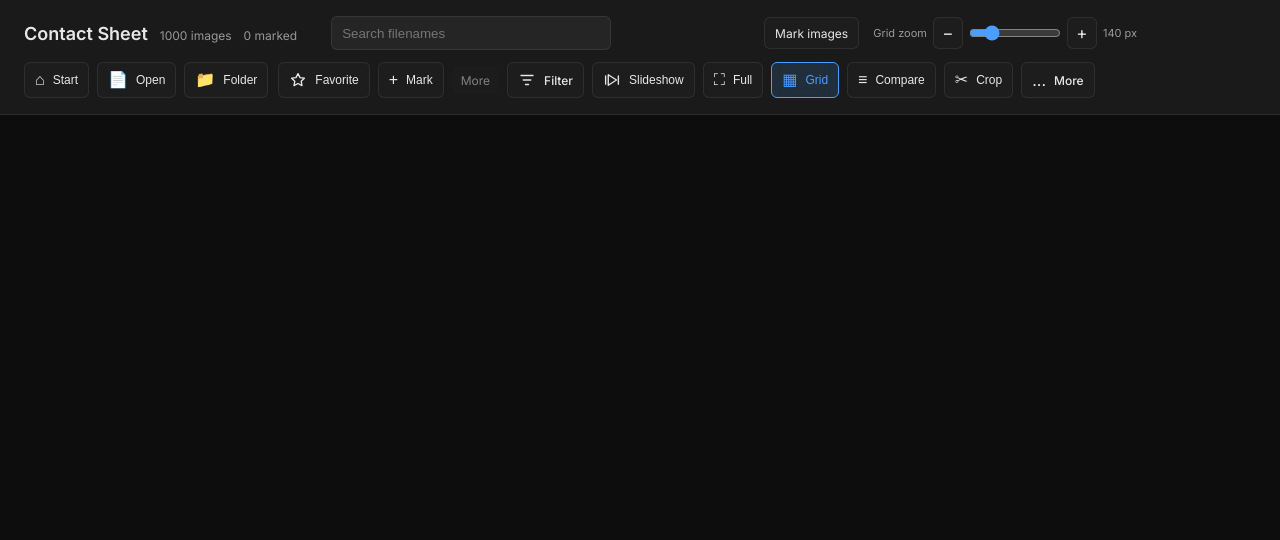
Scenario: ContactSheet › keeps the first visible result and fractional row offset anchored when zoom changes
The width and height of the screenshot is (1280, 540).
(page scrolled)
Click the button named "Zoom grid in".
click(1082, 33)  # box [1067,17,1097,49]
(page scrolled)
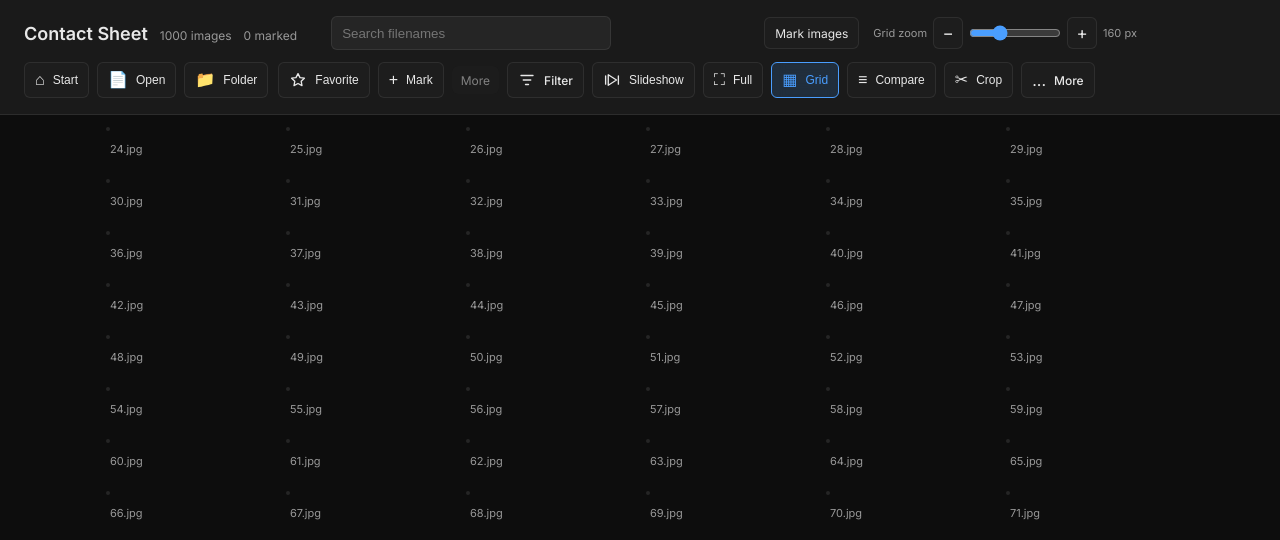
Result: the cell "70.jpg" is shown at [826,491,986,523]
